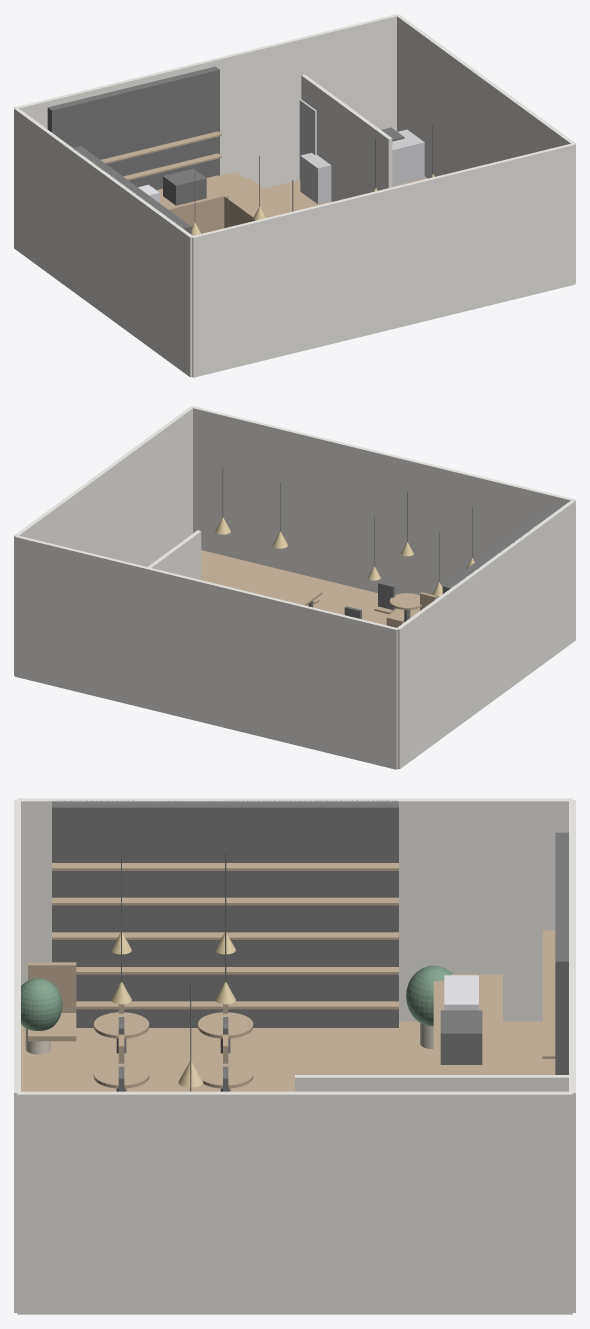
The picture shows the model from 3 angles, top to bottom: view 1: azimuth 30°, elevation 25°; view 2: azimuth 150°, elevation 25°; view 3: azimuth 270°, elevation 25°; orthographic projection. The views are drawn at different scales.
Visible parts, largest first — view 1: WallFront, WallLeft, WallBack, WallRight, BackBar, WallKitchen, KitchenCounter, BarH, BarV, EspressoMachine, BookWall, Fridge (+3 smaller); view 2: WallBack, WallFront, WallLeft, WallRight, Floor, LongTable, WallKitchen, BookWall; view 3: WallRight, BookWall, WallLeft, Floor, WallKitchen, BarH, BackBar, BookShelf3, WallBack, WallFront, BookShelf0, BookShelf4 (+13 smaller).
Part boxes in pixels (box(x1,y1,x2,y2)): WallFront: box(192, 144, 575, 377); WallLeft: box(14, 108, 193, 377); WallBack: box(14, 14, 398, 188); WallRight: box(397, 14, 575, 283); BackBar: box(47, 66, 219, 190); WallKitchen: box(301, 74, 392, 201); KitchenCounter: box(300, 129, 424, 204); BarH: box(158, 171, 258, 233); BarV: box(211, 177, 294, 228); EspressoMachine: box(163, 168, 206, 205); BookWall: box(73, 146, 191, 234); Fridge: box(299, 93, 345, 179); WallBack: box(14, 536, 398, 769); WallFront: box(191, 406, 575, 598); WallLeft: box(397, 500, 575, 769); WallRight: box(14, 406, 192, 675); Floor: box(201, 550, 419, 622); LongTable: box(201, 562, 322, 605); WallKitchen: box(148, 530, 201, 579); BookWall: box(442, 506, 560, 593); WallRight: box(17, 1091, 572, 1314); BookWall: box(52, 800, 398, 1027); WallLeft: box(17, 798, 572, 1021); Floor: box(21, 1021, 542, 1091); WallKitchen: box(295, 1075, 568, 1091); BarH: box(433, 974, 502, 1074); BackBar: box(555, 832, 568, 1074); BookShelf3: box(52, 897, 398, 905); WallBack: box(569, 800, 575, 1312); WallFront: box(14, 800, 20, 1312); BookShelf0: box(76, 1001, 398, 1009); BookShelf4: box(52, 863, 398, 870).
Size of the model in its own units: 10.1 by 3.5 by 8.1.
